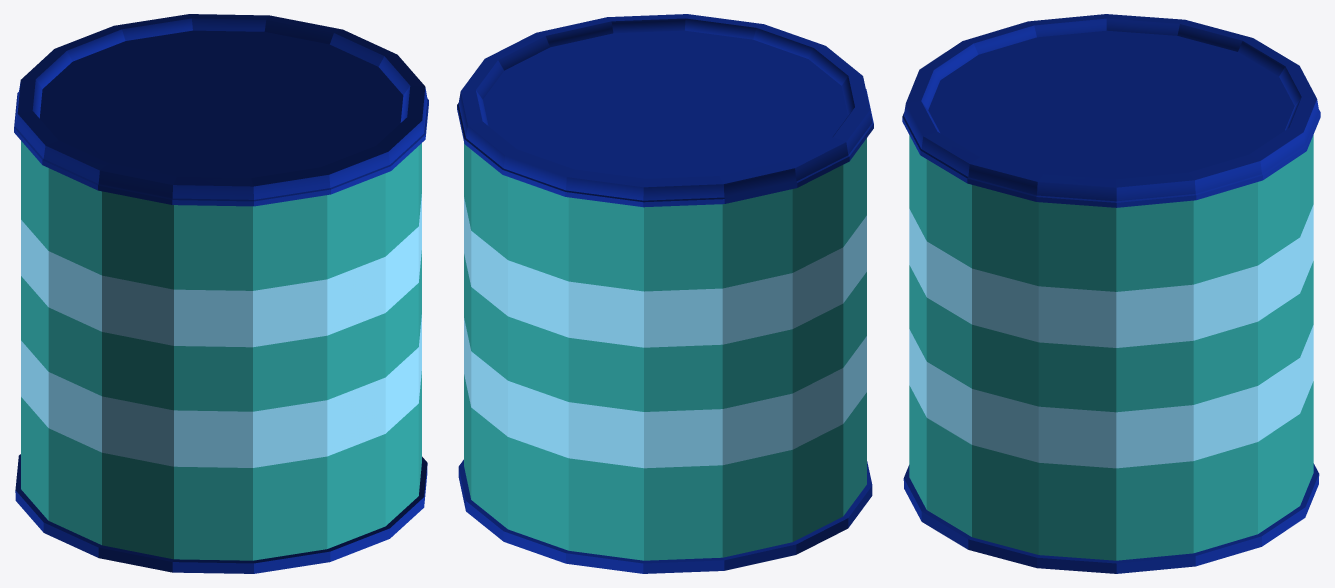
File: Milk Powder.fbx
3 views of the same model, side by side, from view 1: azimuth 30°, elevation 25°; view 2: azimuth 150°, elevation 25°; view 3: azimuth 270°, elevation 25° (orthographic).
Parts seen in each view (by area): view 1: Node 0; view 2: Node 0; view 3: Node 0.
Boxes of the visible parts, <box> form: Node 0: <box>14,14,428,573</box>; Node 0: <box>457,14,873,573</box>; Node 0: <box>902,14,1320,573</box>.
Size of the model in its own units: 0.1511 by 0.1543 by 0.1511.
